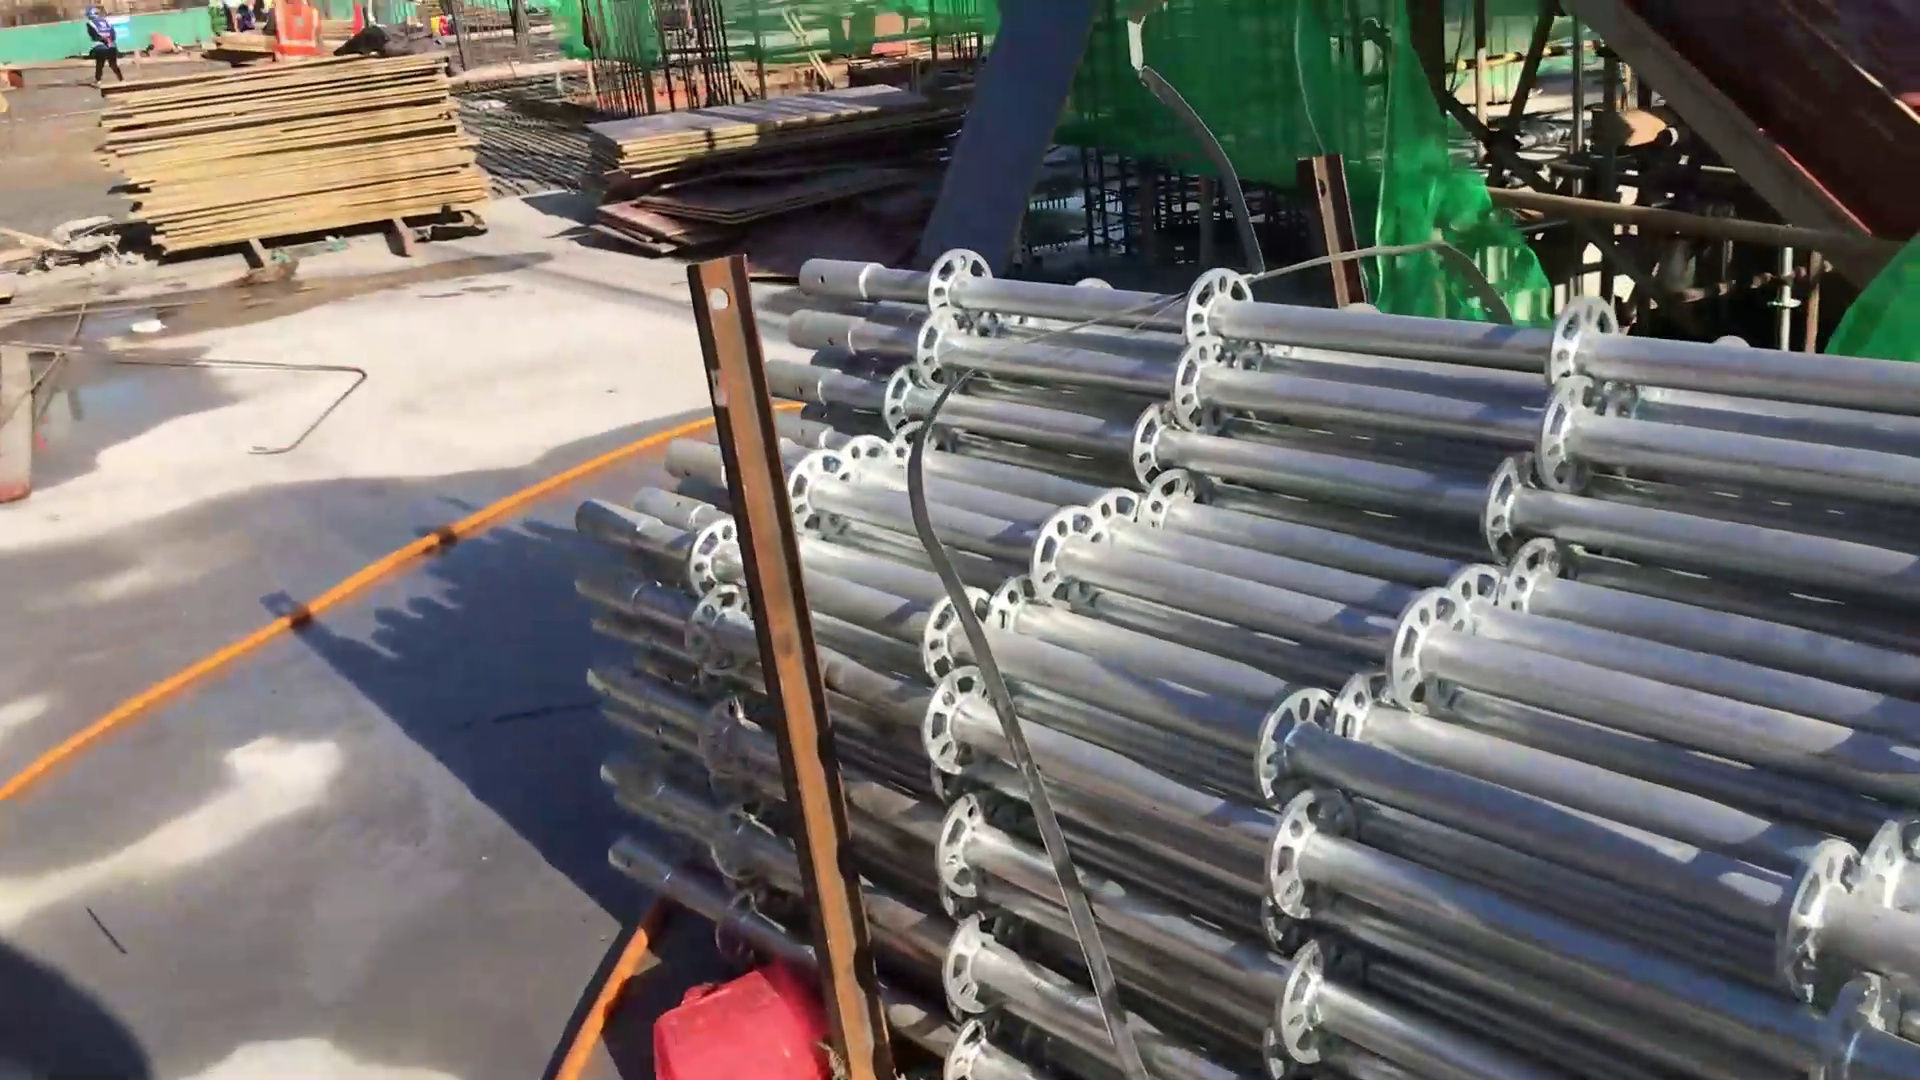board: (51, 51, 541, 274), (571, 54, 928, 198)
scaffold: (520, 208, 1905, 1080)
vest: (268, 1, 335, 65), (82, 20, 127, 62)
